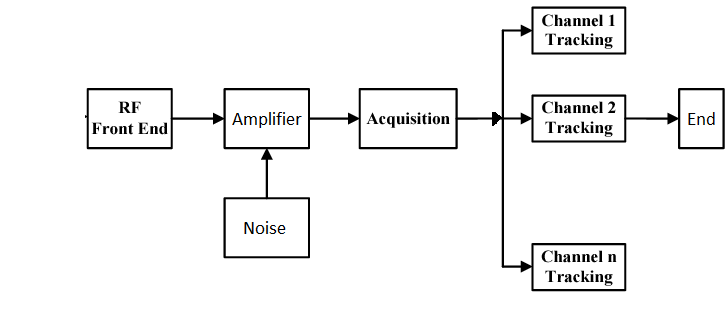arrow: (500, 118, 532, 274), (499, 22, 534, 120), (623, 111, 681, 127), (168, 113, 223, 127), (307, 113, 361, 127), (260, 147, 274, 198), (458, 113, 502, 127), (499, 112, 534, 127)
process: (357, 85, 462, 150), (221, 194, 314, 261), (222, 87, 313, 152), (85, 86, 175, 151), (529, 92, 628, 144), (529, 241, 629, 292), (529, 4, 628, 55), (676, 85, 726, 150)
text: (540, 248, 619, 288), (540, 13, 617, 51), (91, 99, 170, 136), (540, 100, 618, 137), (365, 111, 451, 130), (230, 111, 303, 129), (243, 221, 288, 237), (687, 109, 717, 127)
